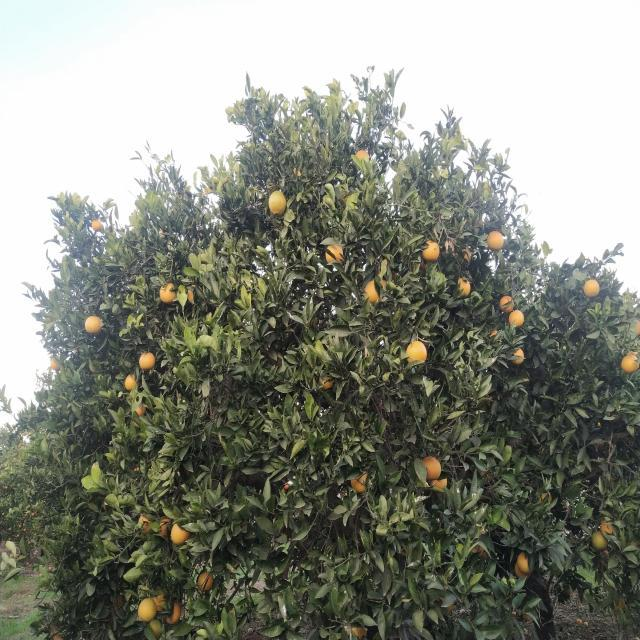Jeruk Belum Matang: (592, 530, 608, 552), (150, 619, 164, 639)
Jeruk Sudah Matang: (365, 278, 387, 304), (406, 341, 428, 366), (170, 522, 192, 546), (420, 239, 440, 263), (422, 456, 442, 480), (159, 282, 177, 306), (269, 191, 286, 216), (326, 244, 344, 266), (138, 599, 156, 621), (620, 354, 640, 372), (350, 473, 368, 491), (198, 572, 214, 592), (85, 316, 102, 334), (487, 232, 504, 250), (508, 310, 525, 328), (430, 477, 450, 492), (158, 517, 172, 538), (139, 354, 156, 371), (499, 295, 515, 313), (584, 280, 600, 297), (518, 554, 533, 572), (138, 516, 152, 534), (188, 285, 202, 303), (319, 376, 334, 392), (457, 278, 470, 296), (349, 627, 367, 640), (124, 374, 138, 390), (512, 348, 526, 364), (600, 520, 614, 536), (356, 150, 369, 163), (51, 356, 61, 371), (135, 404, 147, 416), (92, 220, 102, 233)
